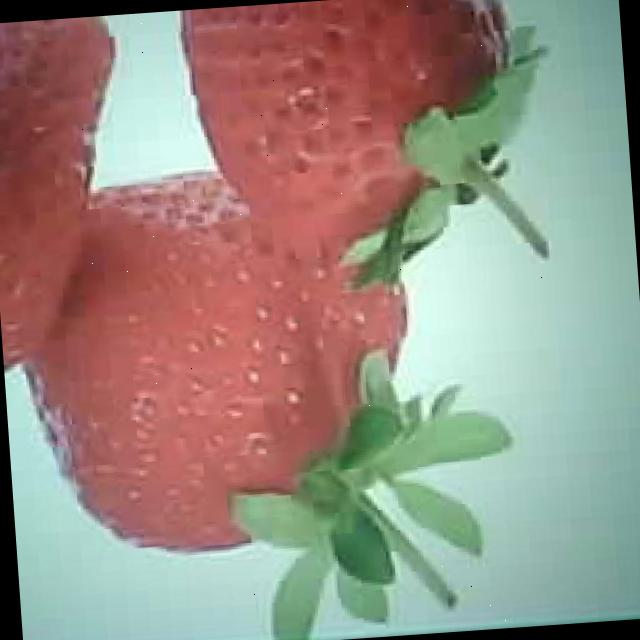strawberry: (9, 164, 428, 565), (180, 0, 516, 254)
